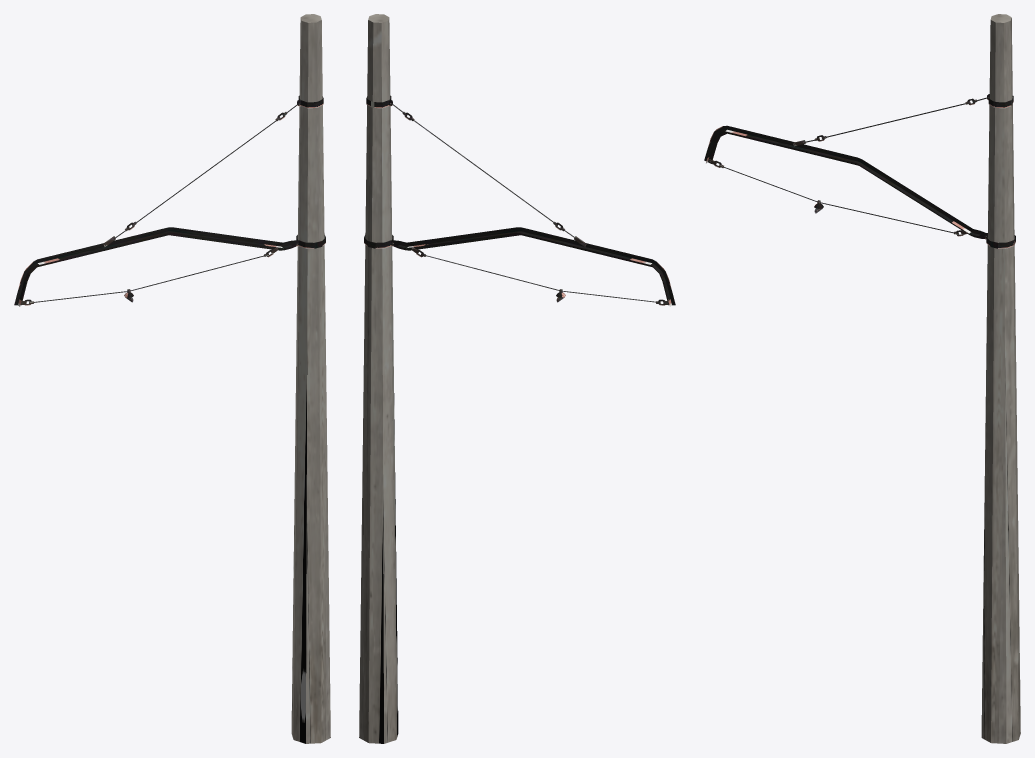
The model's file is c_old_solo.obj.
3 views of the same model, side by side, from view 1: azimuth 30°, elevation 25°; view 2: azimuth 150°, elevation 25°; view 3: azimuth 330°, elevation 25° (orthographic).
Visible parts, largest first — view 1: opora_old_solo; view 2: opora_old_solo; view 3: opora_old_solo.
Part boxes in pixels (left/top/right/bottom): opora_old_solo: left=14, top=14, right=330, bottom=743; opora_old_solo: left=359, top=14, right=675, bottom=743; opora_old_solo: left=704, top=14, right=1020, bottom=743.
Bounding box in the file's own units: 4.32 × 9.41 × 0.4837.
Materials: 3 (3 with a texture image).
